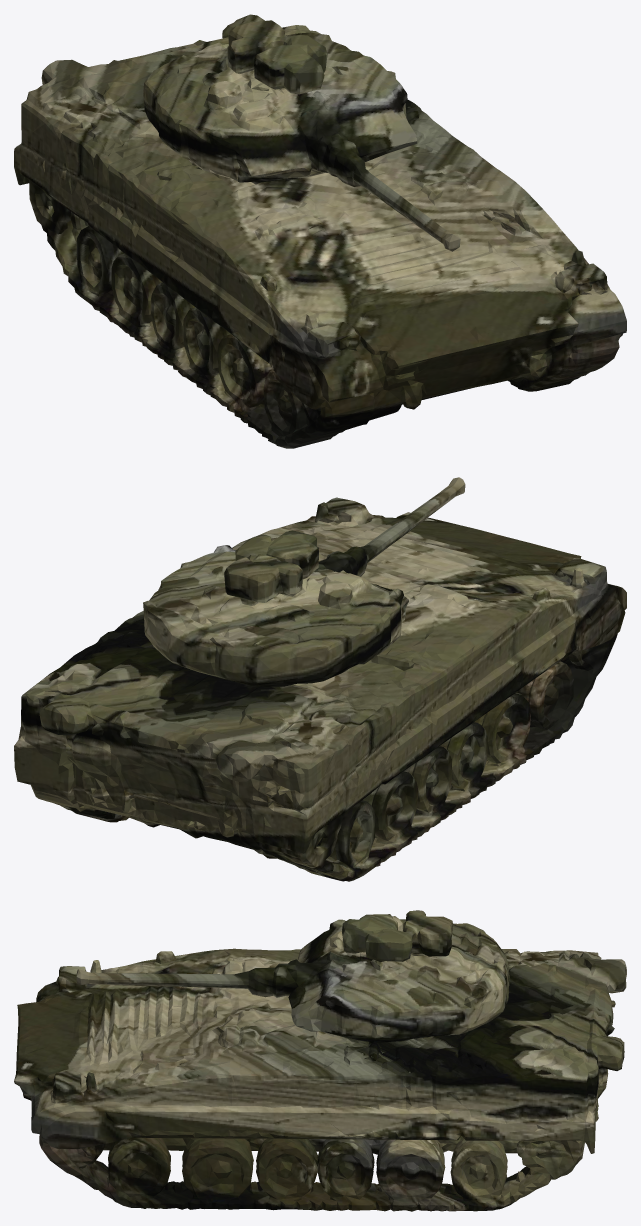
Rendered from ifv.glb.
The picture shows the model from 3 angles, top to bottom: view 1: azimuth 30°, elevation 25°; view 2: azimuth 150°, elevation 25°; view 3: azimuth 270°, elevation 25°; orthographic projection. The views are drawn at different scales.
Visible parts, largest first — view 1: geometry_0; view 2: geometry_0; view 3: geometry_0.
Boxes of the visible parts, x1,y1,x2,y2 form: geometry_0: (14, 14, 626, 448); geometry_0: (14, 477, 626, 881); geometry_0: (14, 910, 626, 1211).
Size of the model in its own units: 3.65 by 2.89 by 7.03.
Materials: 1 (1 with a texture image).
